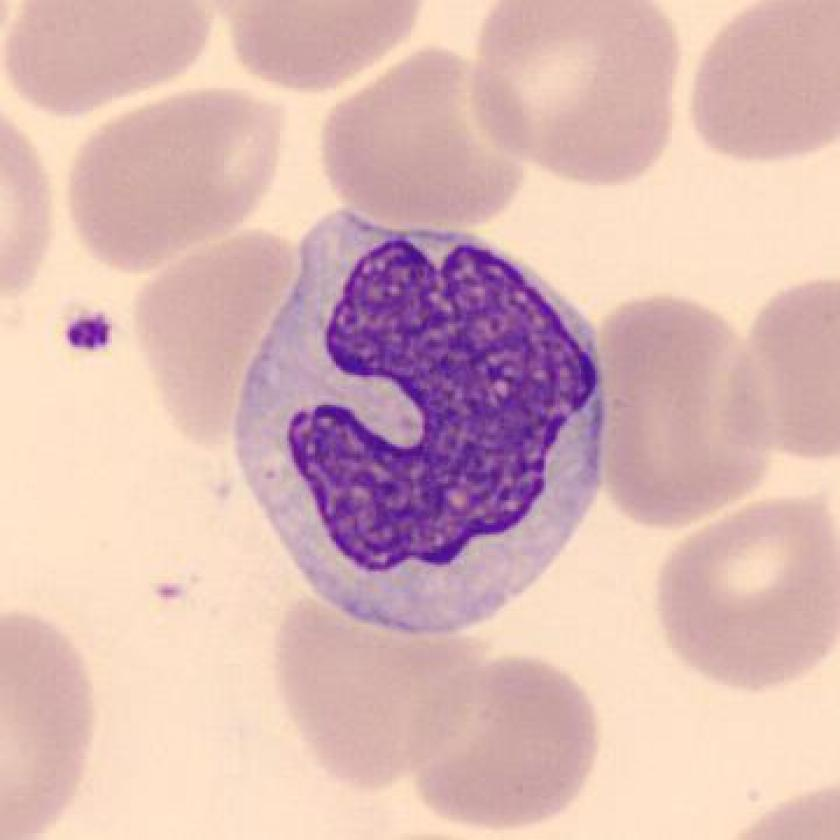monocyte: (223, 182, 626, 652)
